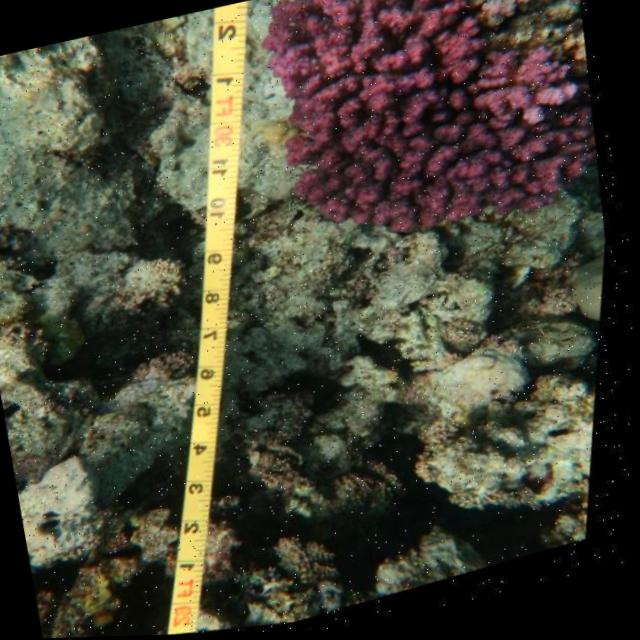Healthy Coral: (192, 0, 633, 323)
